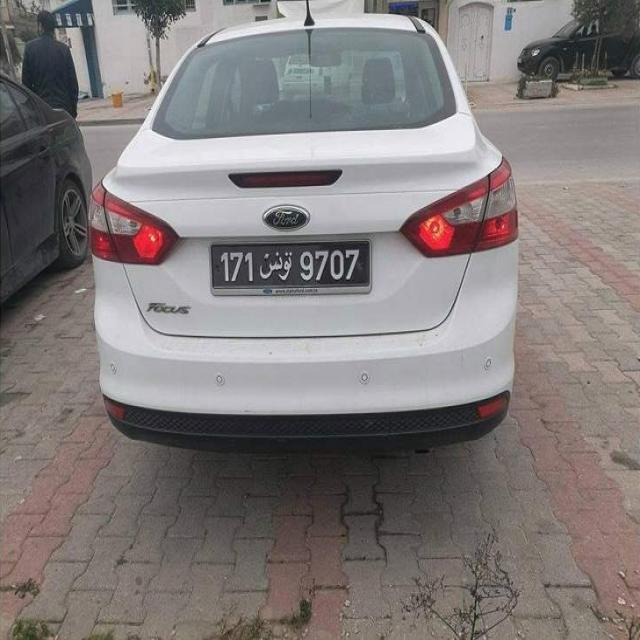licence plate: (208, 242, 368, 287)
